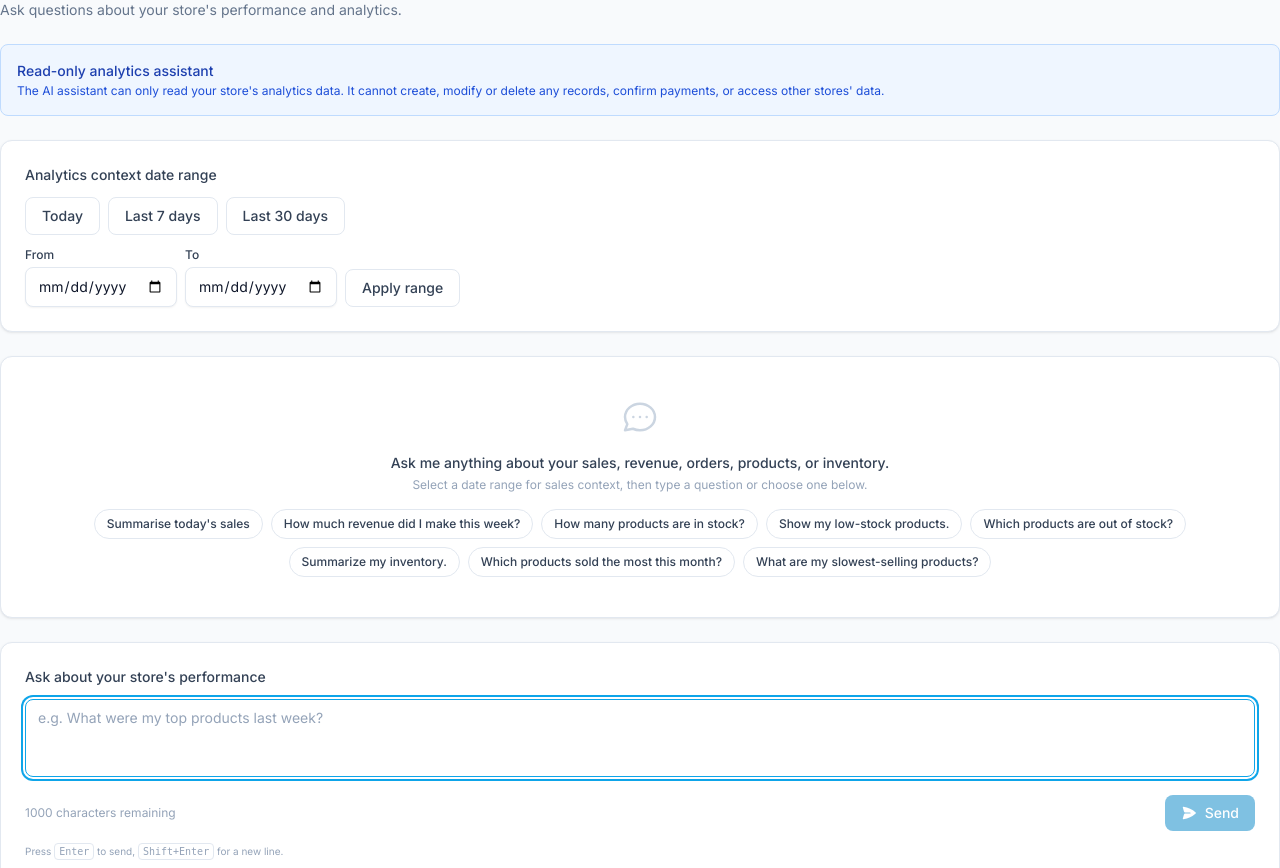
Test case: AssistantPage › shows the server error and keeps the interaction recoverable
Type "Revenue today?" into the text box labelled "Ask about your store's performance" at {"x": 640, "y": 738}, box [25,699,1255,777]
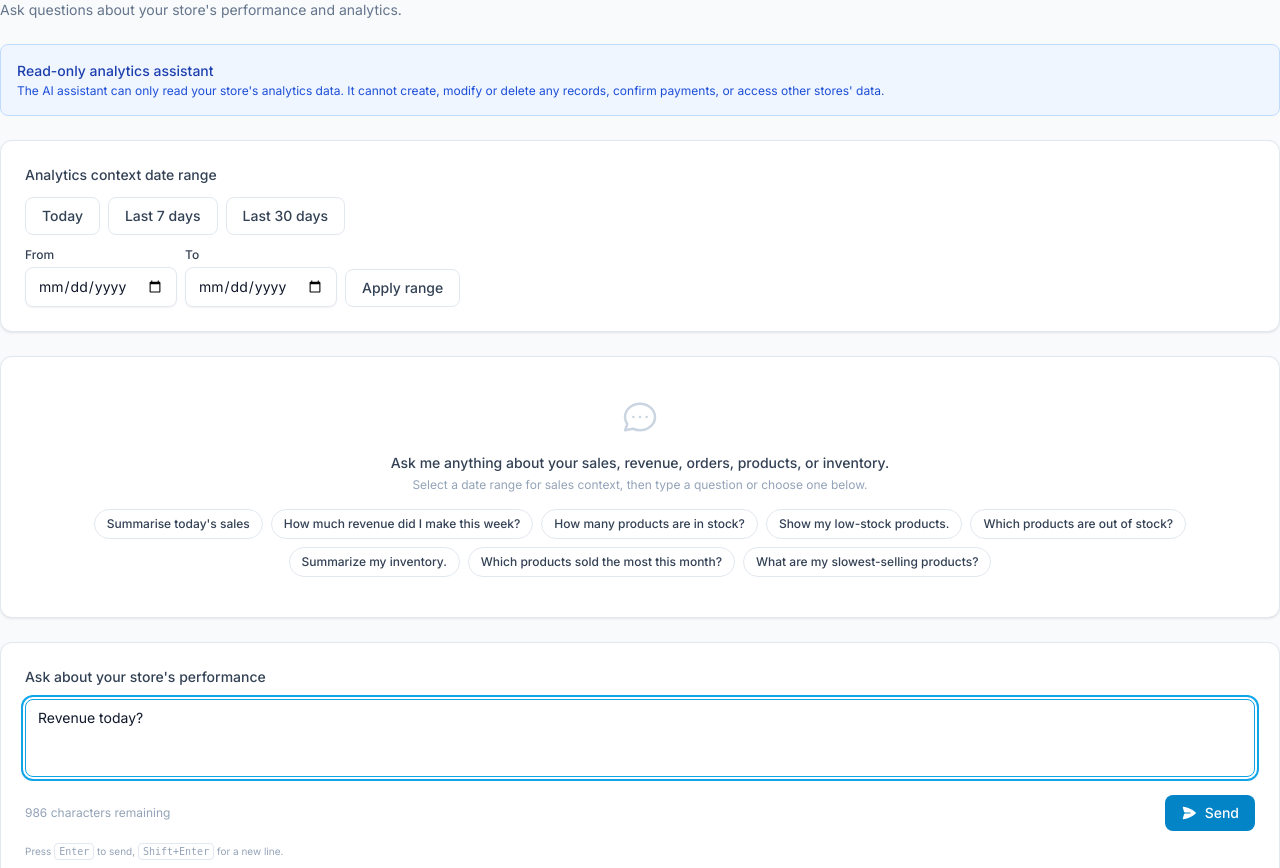
Click the button with aria-label "send message" at {"x": 1210, "y": 813}, box [1165,795,1255,831]
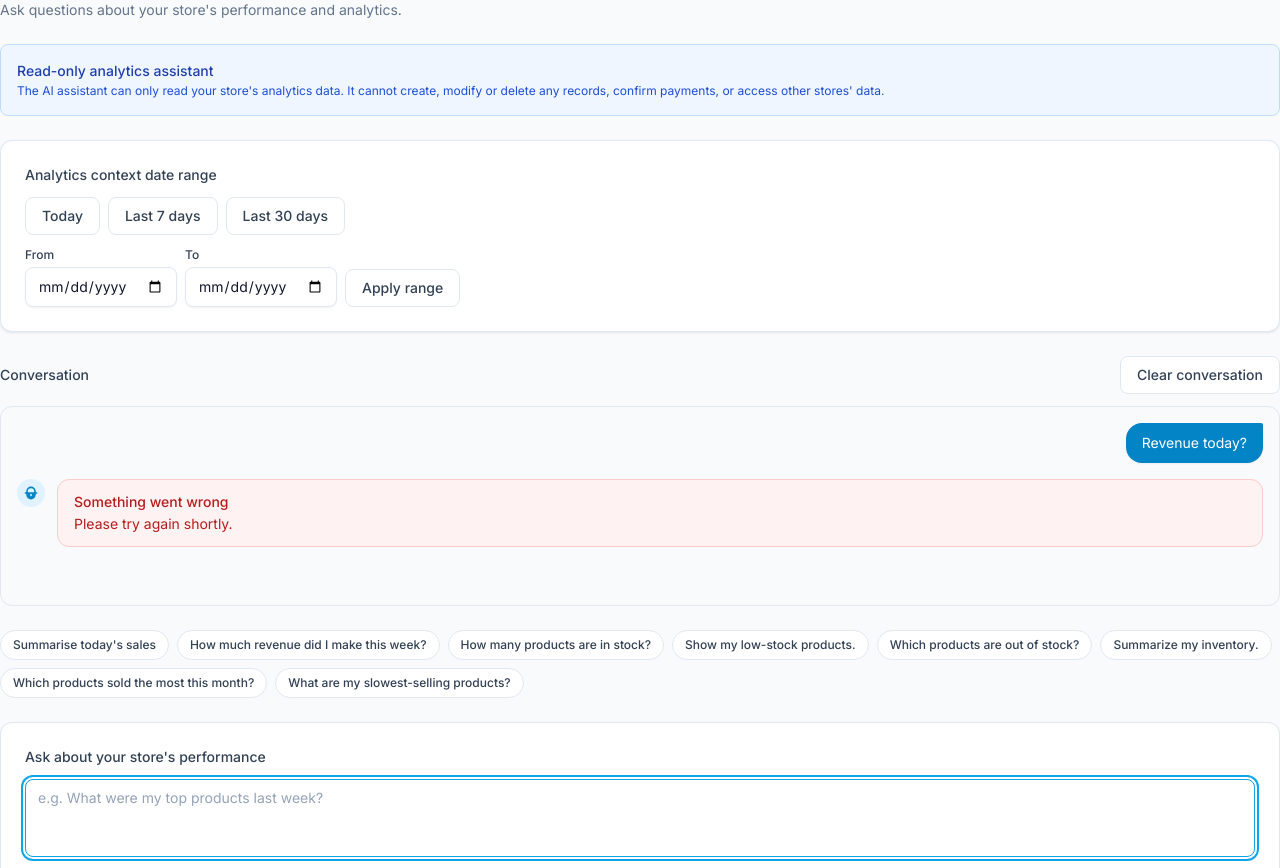
Expected: the message shows "Please try again shortly.", [74,515,233,532]
Type "Try again" into the text box labelled "Ask about your store's performance" at {"x": 640, "y": 818}, box [25,779,1255,857]
(page scrolled)
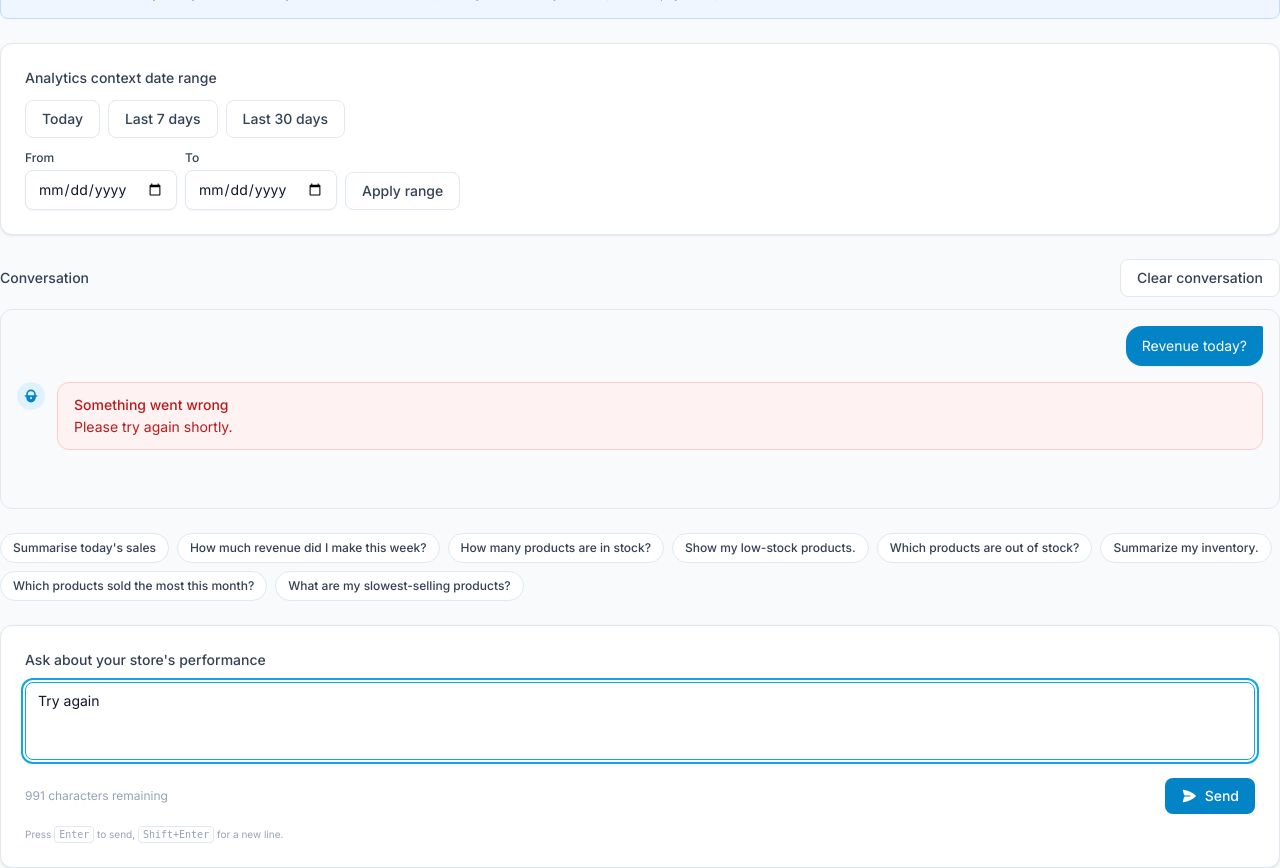
Expected: the button with aria-label "send message" is enabled, [1165,778,1255,814]
